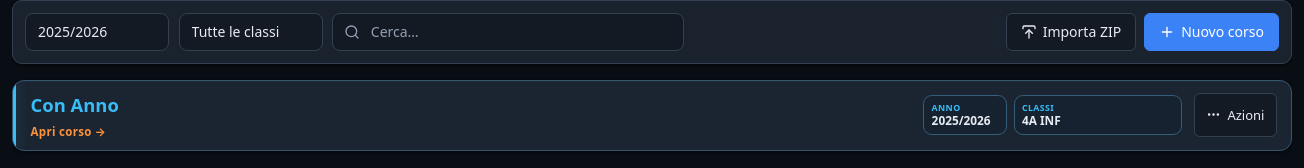
Test: DidatticaView — filters › offers "Senza anno" and filters to courses without a school year
expect the heading "Con Anno" is shown: met, box [31,92,119,117]
Select "Senza anno" in the dropdown named "Filtro anno scolastico": (97, 32) [25,13,169,51]
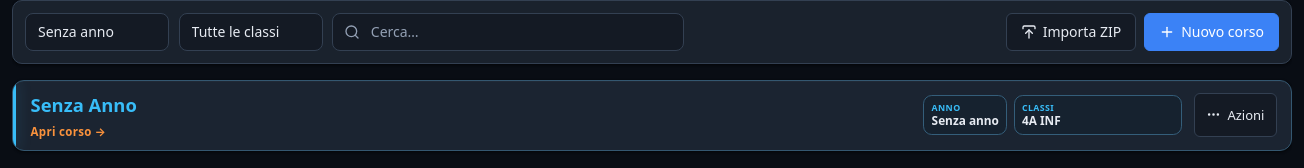
expect the heading "Senza Anno" is shown: met, box [31,92,137,117]
expect the heading "Con Anno" is gone: met
